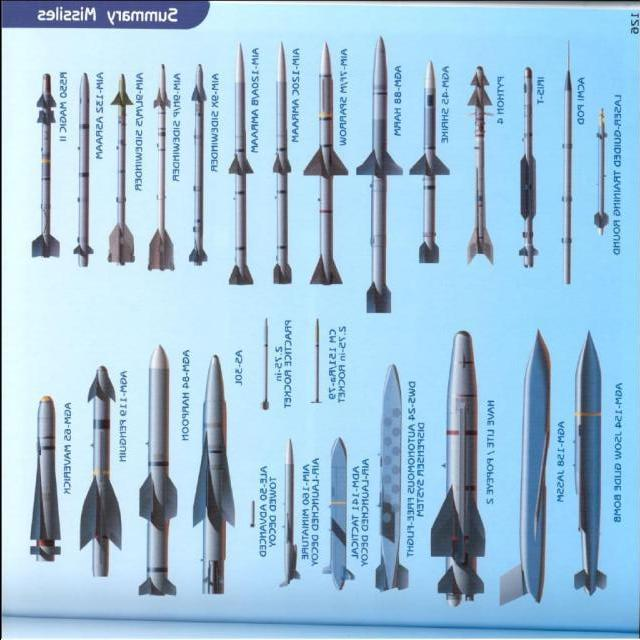missile: (427, 323, 489, 609), (346, 31, 407, 321), (397, 41, 450, 291), (131, 342, 175, 605), (544, 27, 586, 299), (224, 29, 264, 309), (264, 30, 306, 284), (99, 55, 146, 280), (452, 50, 496, 271), (18, 393, 71, 575), (17, 61, 61, 268), (178, 64, 216, 285), (584, 97, 619, 236)
